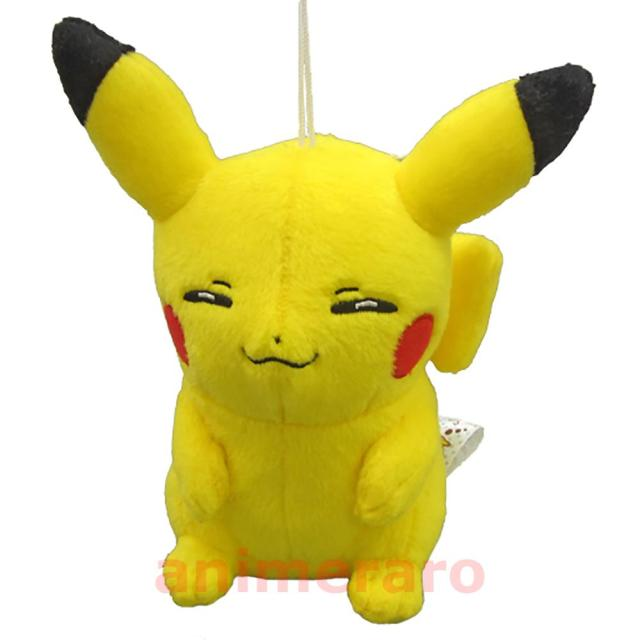pikachu: (53, 20, 594, 625)
